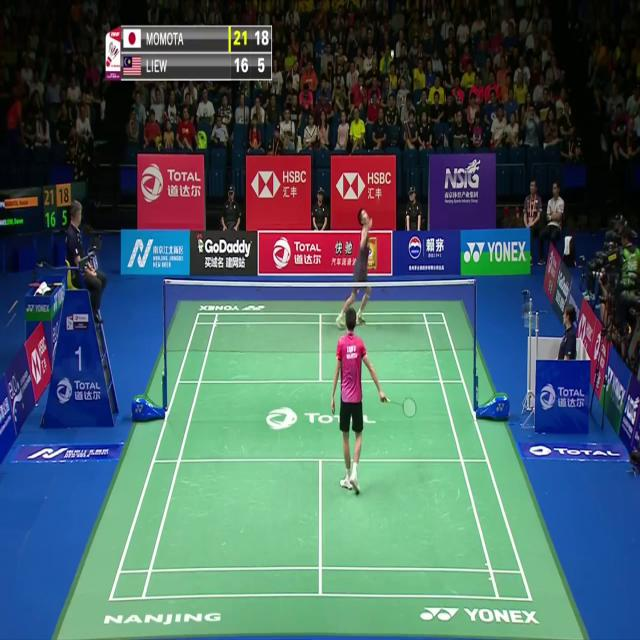Shuttlecock: (389, 48, 395, 60)
